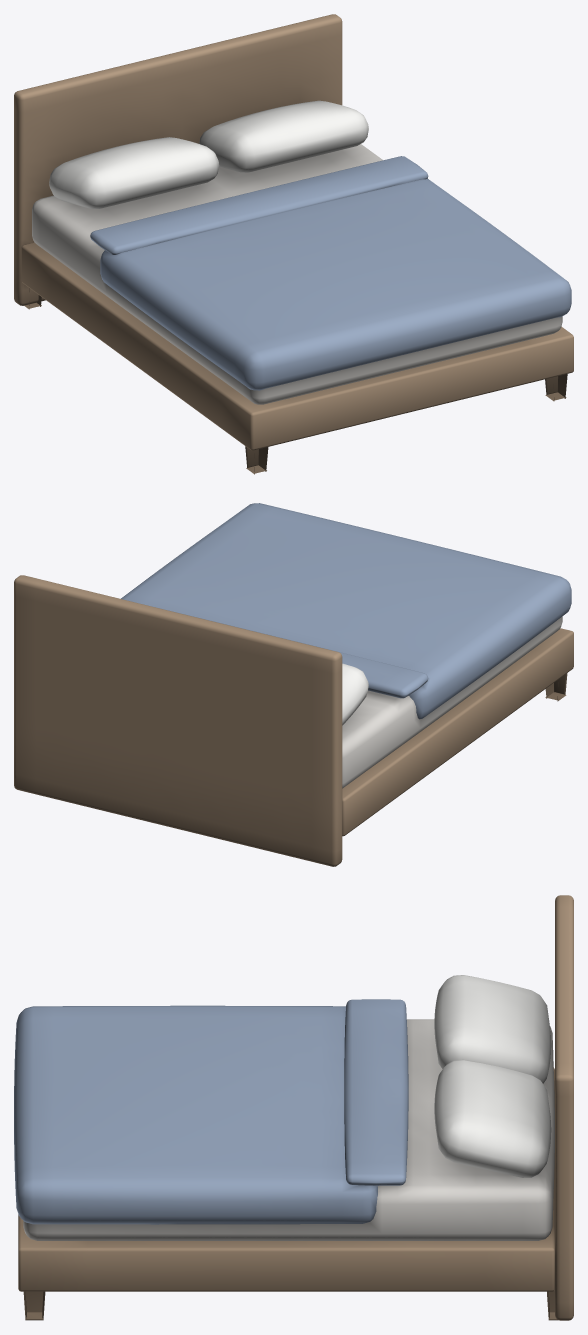
File: bed.glb
3 views of the same model, one above another, from view 1: azimuth 30°, elevation 25°; view 2: azimuth 150°, elevation 25°; view 3: azimuth 270°, elevation 25° (orthographic). The views are drawn at different scales.
Visible parts, largest first — view 1: p_bed; view 2: p_bed; view 3: p_bed.
Boxes of the visible parts, x1=… form: p_bed: x1=14, y1=14, x2=573, y2=474; p_bed: x1=14, y1=503, x2=573, y2=866; p_bed: x1=14, y1=895, x2=573, y2=1320.
Bounding box in the file's own units: 1.63 × 1.01 × 2.07.
